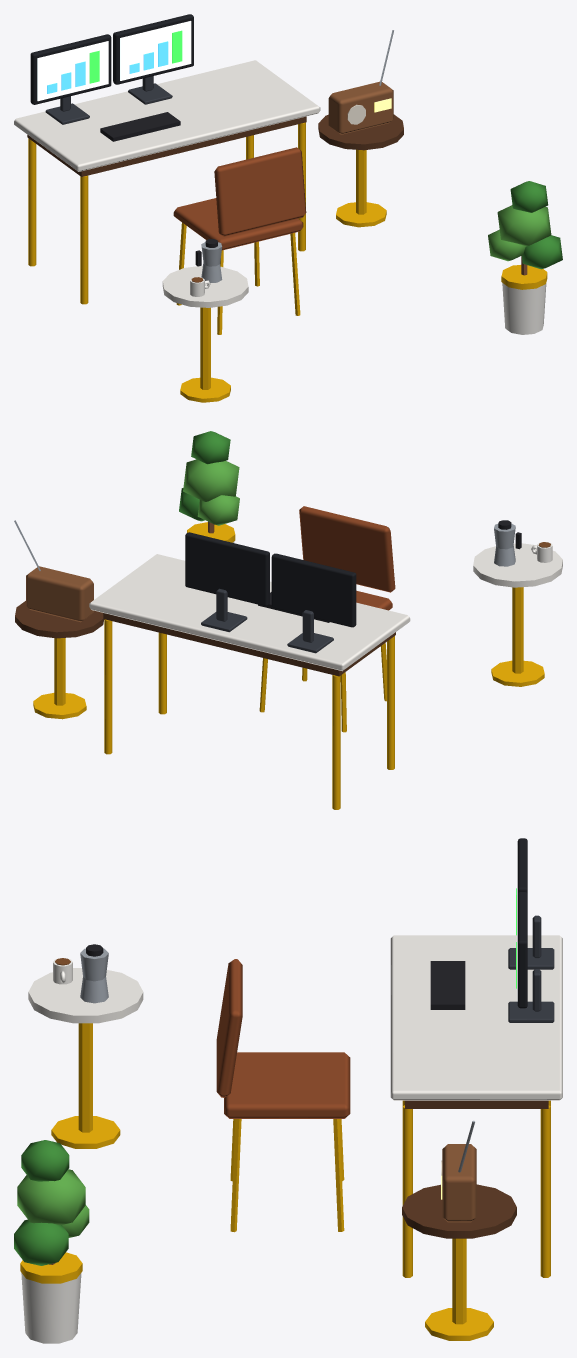
File: station_intake_1.glb
The picture shows the model from 3 angles, top to bottom: view 1: azimuth 30°, elevation 25°; view 2: azimuth 150°, elevation 25°; view 3: azimuth 270°, elevation 25°; orthographic projection. The views are drawn at different scales.
Parts seen in each view (by area): view 1: station_intake_1; view 2: station_intake_1; view 3: station_intake_1.
Part boxes in pixels (bbox=[...]): station_intake_1: bbox=[14, 14, 562, 402]; station_intake_1: bbox=[14, 431, 562, 809]; station_intake_1: bbox=[14, 838, 562, 1343].
Size of the model in its own units: 2 by 1.12 by 1.91.
